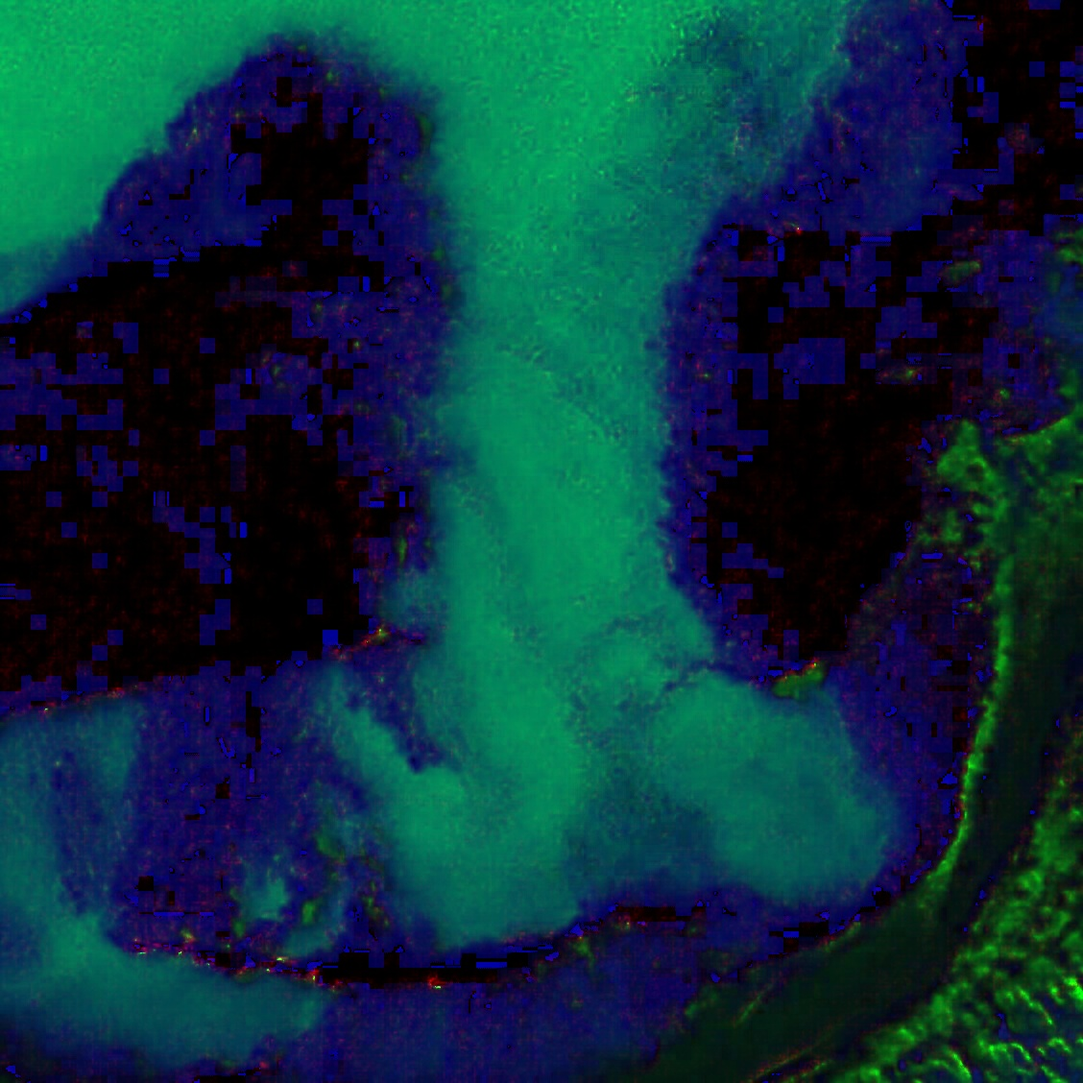rip_current: (278, 121, 881, 890)
